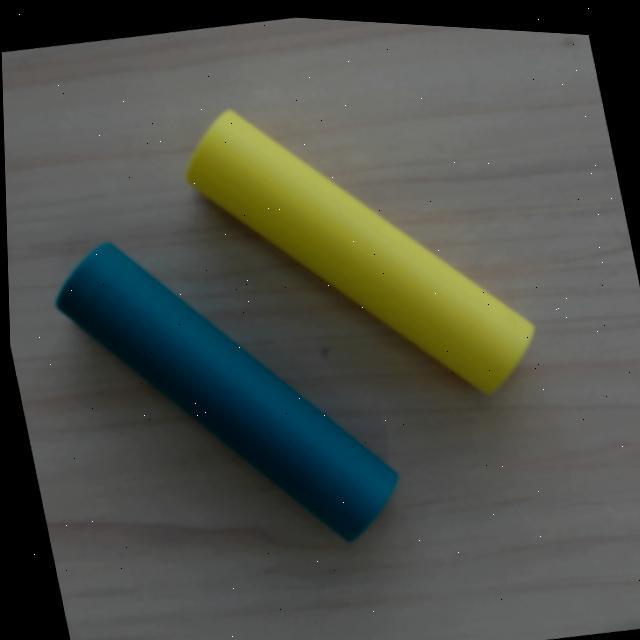Silinder-Hijau-10025: (49, 237, 405, 545)
Silinder-Kuning-10025: (175, 105, 542, 400)
